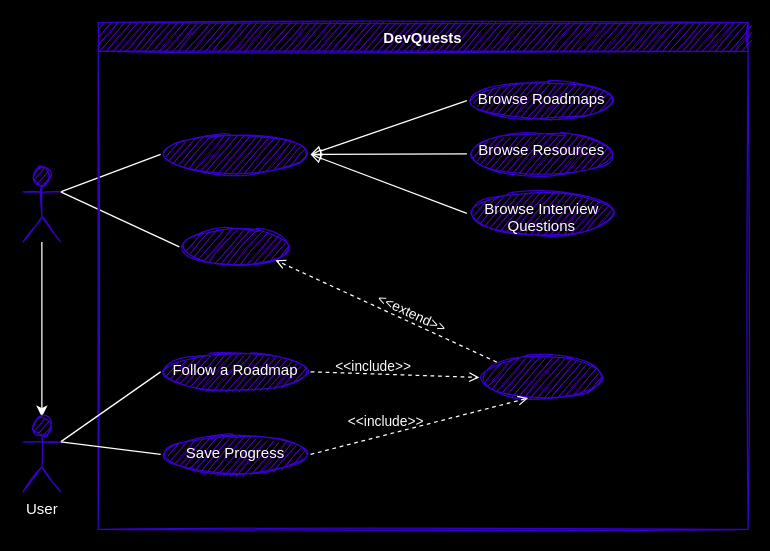
Some shapes in this 770 by 551 pixel diagram are drawn without their labels. Each missing label, with the centre of its shape:
"Browse Content" belongs at (235,153).
"Guest" belongs at (41,204).
"Login" belongs at (541,377).
"Register" belongs at (235,246).
